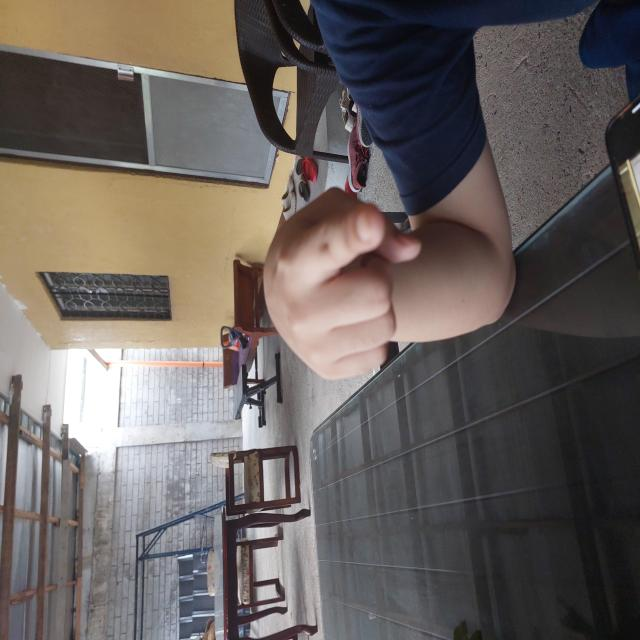Z: (256, 167, 442, 403)
